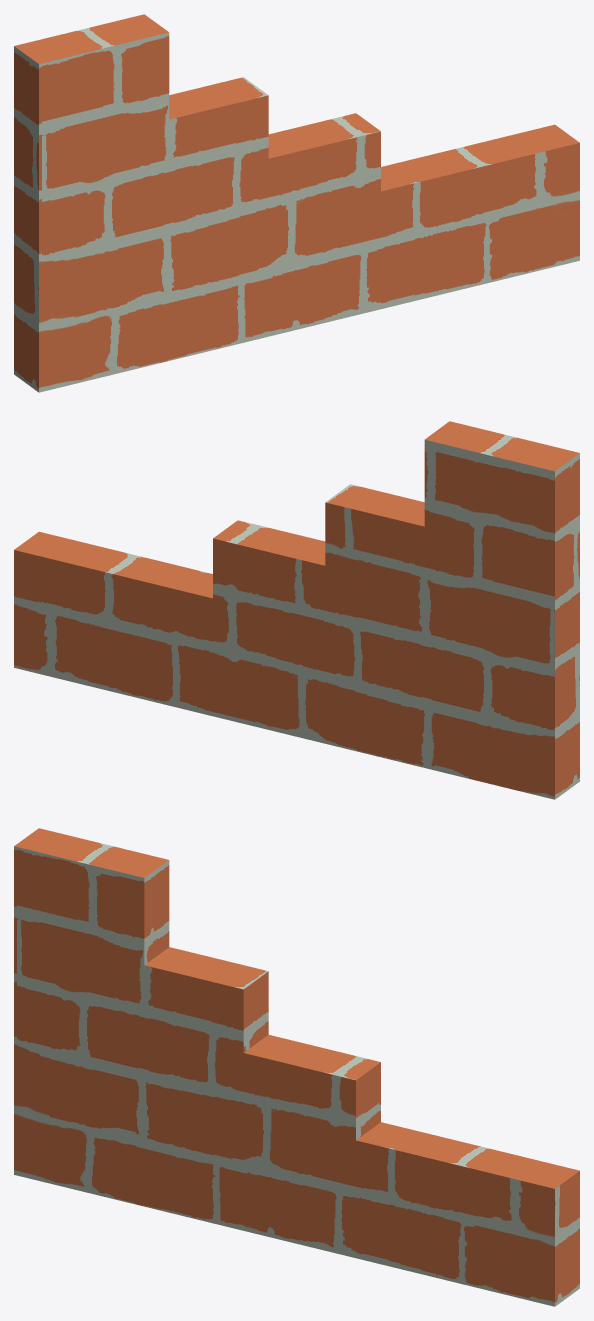
File: Half_Brick_Wall_01.fbx
3 views of the same model, one above another, from view 1: azimuth 30°, elevation 25°; view 2: azimuth 150°, elevation 25°; view 3: azimuth 330°, elevation 25° (orthographic).
Visible parts, largest first — view 1: Half_Brick_Wall_01; view 2: Half_Brick_Wall_01; view 3: Half_Brick_Wall_01.
Part boxes in pixels (box(x1,y1,x2,y2)): Half_Brick_Wall_01: box(14, 14, 579, 392); Half_Brick_Wall_01: box(14, 421, 579, 799); Half_Brick_Wall_01: box(14, 828, 579, 1306).
Bounding box in the file's own units: 250 × 145 × 20.
